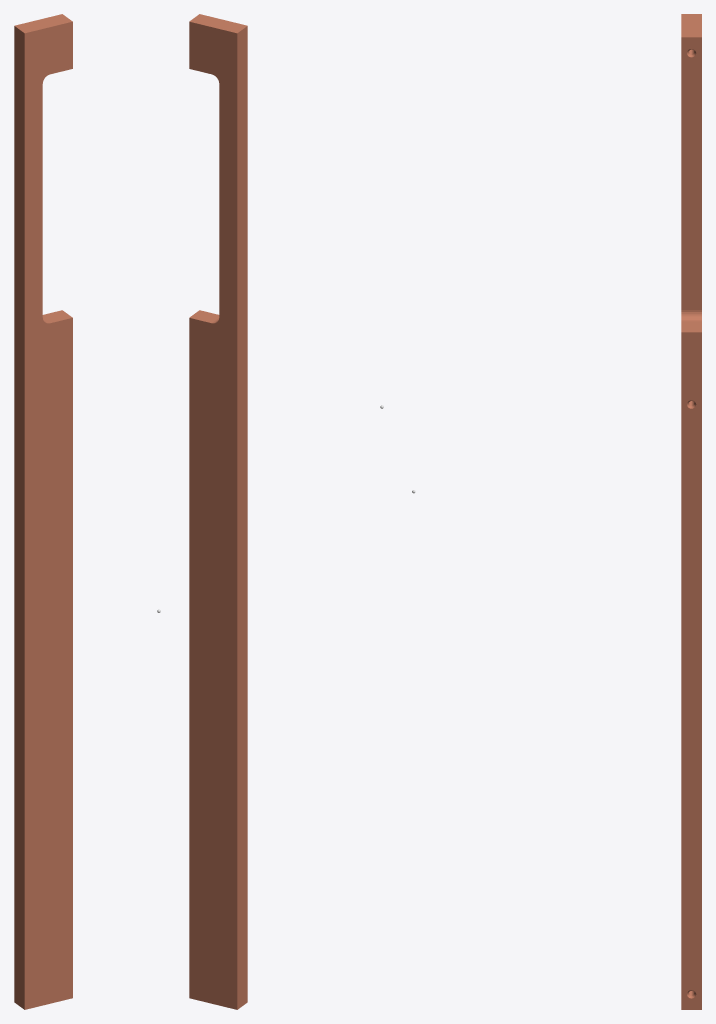
The model's file is 169 pvd r gold.glb.
3 renders of one model, left to right at view 1: azimuth 30°, elevation 25°; view 2: azimuth 150°, elevation 25°; view 3: azimuth 270°, elevation 25°, orthographic.
Parts seen in each view (by area): view 1: CABINET_HANDLE_169; view 2: CABINET_HANDLE_169; view 3: CABINET_HANDLE_169.
Boxes of the visible parts, x1,y1,x2,y2 form: CABINET_HANDLE_169: (14, 14, 72, 1009); CABINET_HANDLE_169: (189, 14, 247, 1009); CABINET_HANDLE_169: (681, 14, 701, 1009).
Size of the model in its own units: 0.8885 by 16.69 by 4.51.
